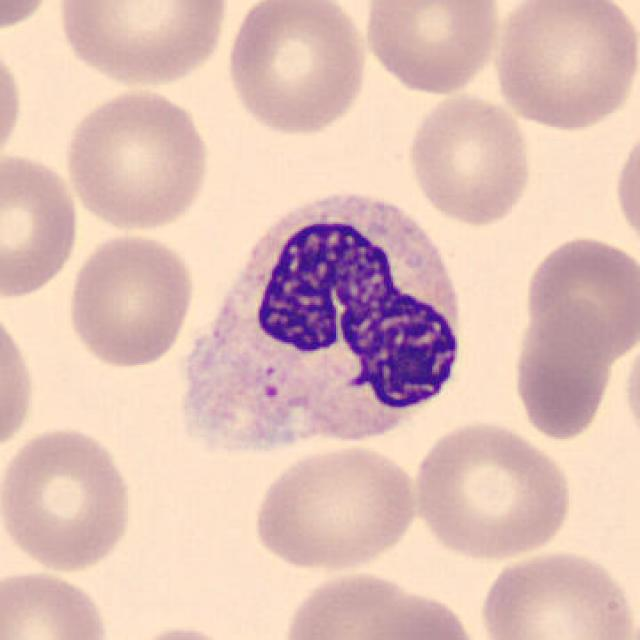Neutrophil: (174, 180, 475, 464)
RBC: (407, 416, 576, 563), (247, 439, 421, 575), (59, 84, 215, 234), (0, 421, 139, 575), (220, 0, 371, 139), (489, 0, 638, 134), (62, 229, 199, 370), (404, 90, 535, 227), (508, 294, 622, 444), (53, 0, 235, 90), (519, 231, 638, 361), (474, 545, 636, 640), (359, 0, 503, 97), (0, 146, 84, 302), (277, 567, 447, 640), (0, 566, 116, 640), (347, 589, 485, 640), (0, 300, 39, 462), (610, 118, 640, 256), (0, 33, 27, 173), (112, 622, 252, 640), (620, 328, 640, 453), (0, 0, 60, 37)
